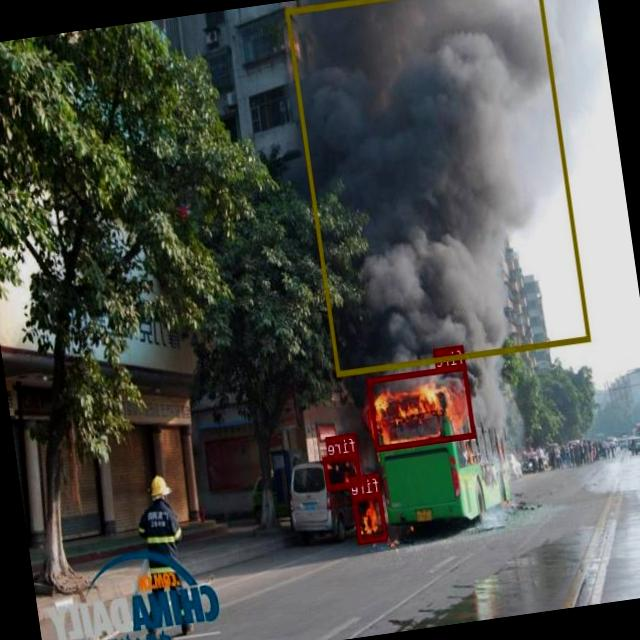fire: (368, 364, 477, 450), (354, 492, 388, 544), (323, 451, 363, 490)
smoke: (287, 0, 592, 375)
